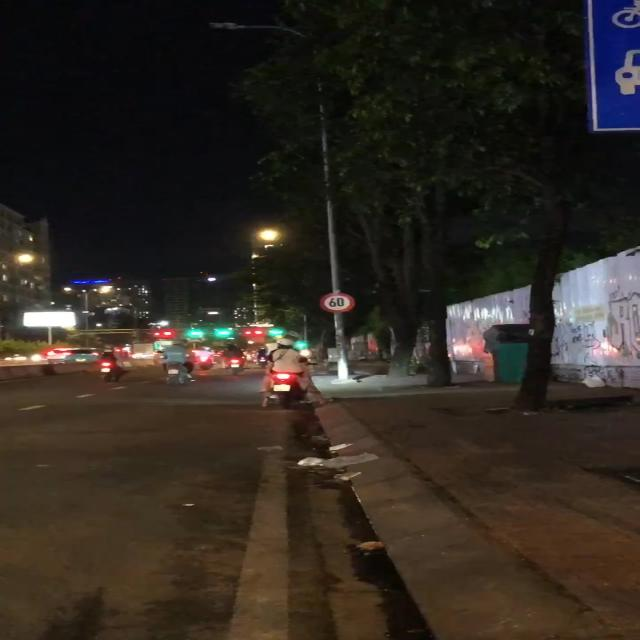Bien bao toc do toi da cho phep: (313, 287, 360, 315)
